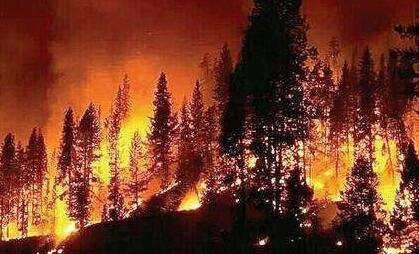fire: (2, 84, 224, 240)
